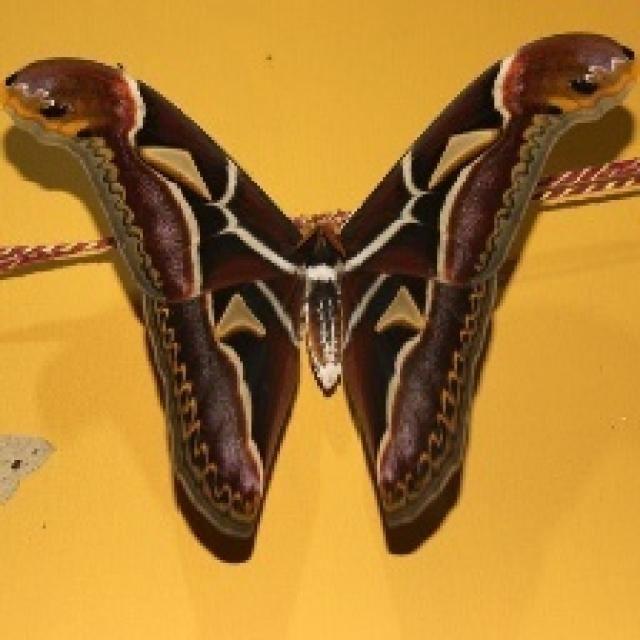butterfly: (0, 29, 637, 560)
